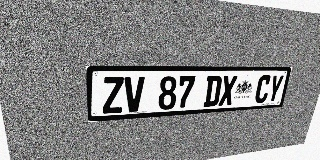7: (176, 76, 196, 109)
8: (158, 76, 178, 110)
C: (254, 75, 272, 103)
D: (203, 76, 223, 107)
V: (124, 76, 145, 112)
X: (218, 75, 238, 106)
Y: (266, 75, 284, 103)
Z: (102, 77, 124, 114)
